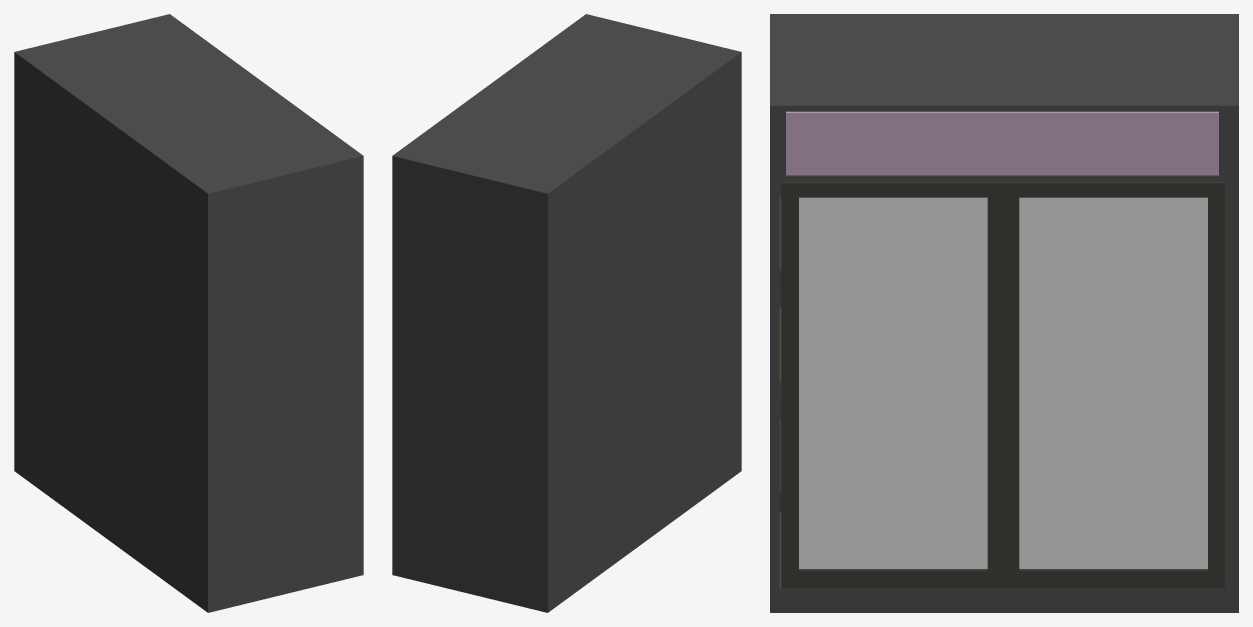
File: Fridge.fbx
3 renders of one model, left to right at view 1: azimuth 30°, elevation 25°; view 2: azimuth 150°, elevation 25°; view 3: azimuth 270°, elevation 25°, orthographic. The views are drawn at different scales.
Parts seen in each view (by area): view 1: Cube; view 2: Cube; view 3: Cube, Cube.006, Cube.035, Cube.005, Cube.036, Cube.004.
Part boxes in pixels (bbox=[...]): Cube: bbox=[14, 14, 363, 612]; Cube: bbox=[392, 14, 741, 612]; Cube: bbox=[770, 14, 1238, 612]; Cube.006: bbox=[799, 197, 987, 568]; Cube.035: bbox=[1019, 197, 1207, 568]; Cube.005: bbox=[786, 111, 1218, 175]; Cube.036: bbox=[1001, 181, 1224, 588]; Cube.004: bbox=[781, 181, 1005, 588].
Size of the model in its own units: 205 by 526 by 441.
